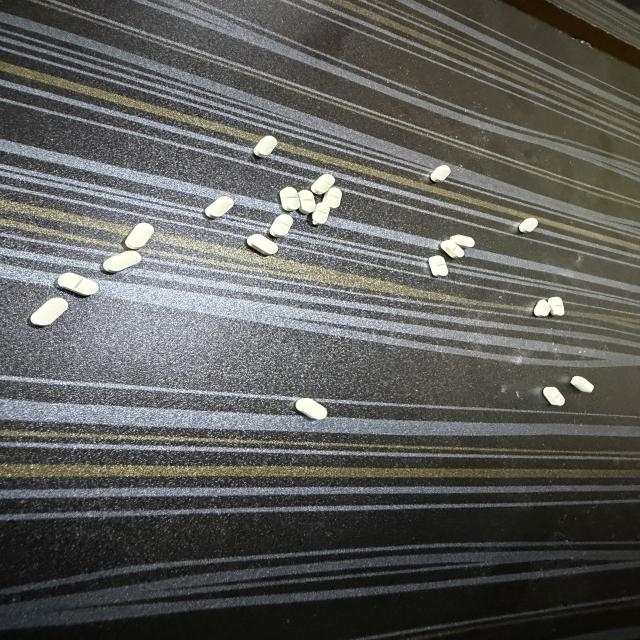pill: (30, 298, 68, 326), (58, 273, 98, 296), (103, 250, 141, 273), (125, 223, 154, 249), (247, 234, 278, 255), (296, 398, 327, 419), (205, 196, 234, 217), (270, 214, 293, 237), (254, 136, 277, 157), (280, 187, 300, 211), (311, 174, 335, 194), (543, 387, 565, 406), (312, 202, 330, 225), (298, 190, 315, 214), (323, 187, 342, 208), (441, 240, 464, 257), (429, 256, 448, 276), (571, 376, 594, 392), (430, 165, 450, 182), (548, 297, 564, 316), (450, 235, 474, 247), (519, 218, 538, 232), (534, 300, 550, 316)
